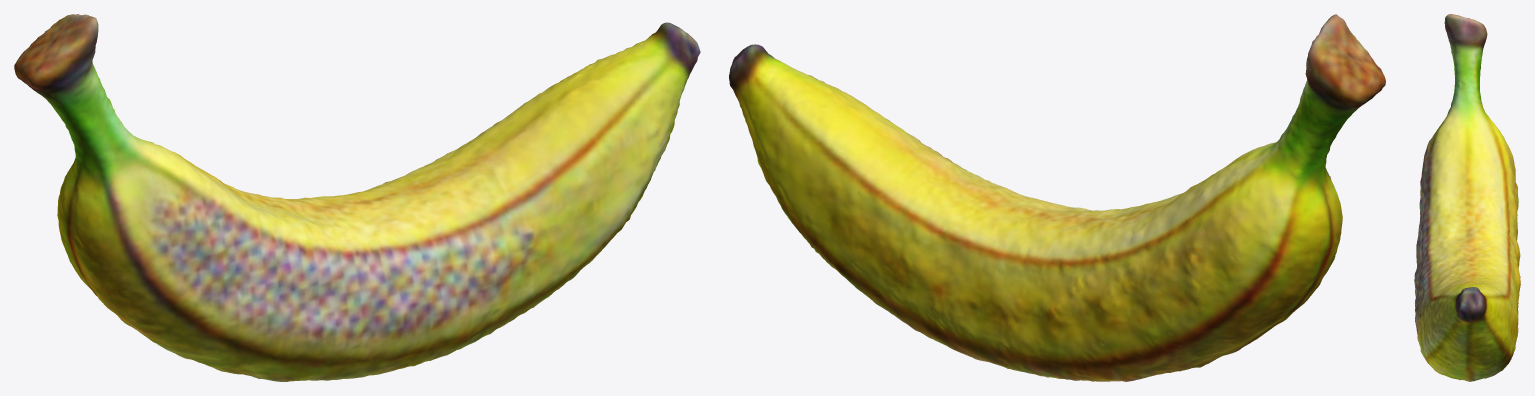
File: card_2.glb
The picture shows the model from 3 angles, left to right: view 1: azimuth 30°, elevation 25°; view 2: azimuth 150°, elevation 25°; view 3: azimuth 270°, elevation 25°; orthographic projection. The views are drawn at different scales.
Parts seen in each view (by area): view 1: Mesh1; view 2: Mesh1; view 3: Mesh1.
Part boxes in pixels (<box>): Mesh1: <box>14,14,700,381</box>; Mesh1: <box>729,14,1385,381</box>; Mesh1: <box>1414,14,1520,381</box>.
Size of the model in its own units: 1.2 by 0.7267 by 0.2734.
1 material, 1 textured.
